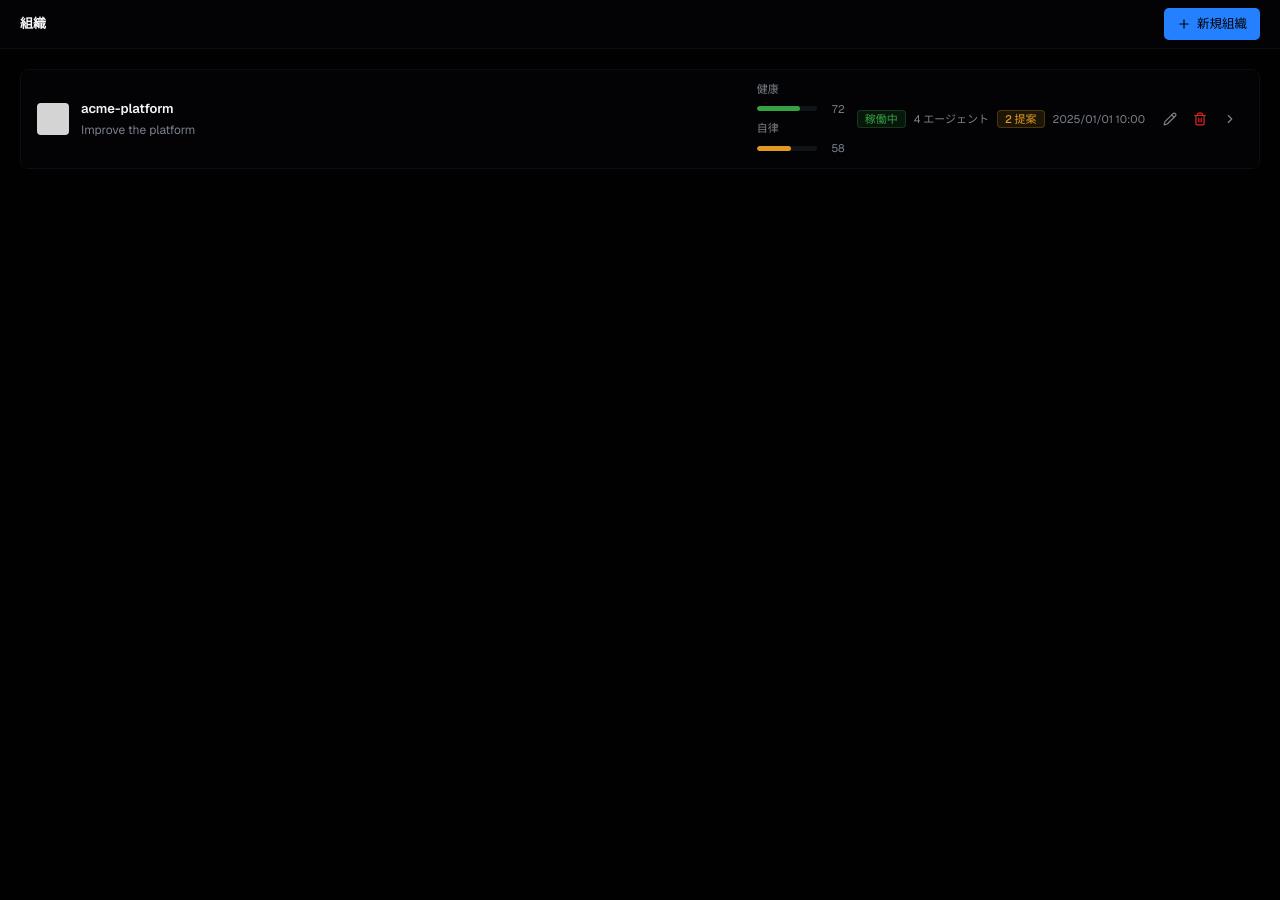
Scenario: OrgsPage › edits an existing organization
Check: the text "acme-platform" is shown, box [81,100,174,117]
Click the button named "acme-platform を編集": (1170, 119) [1157,106,1183,132]
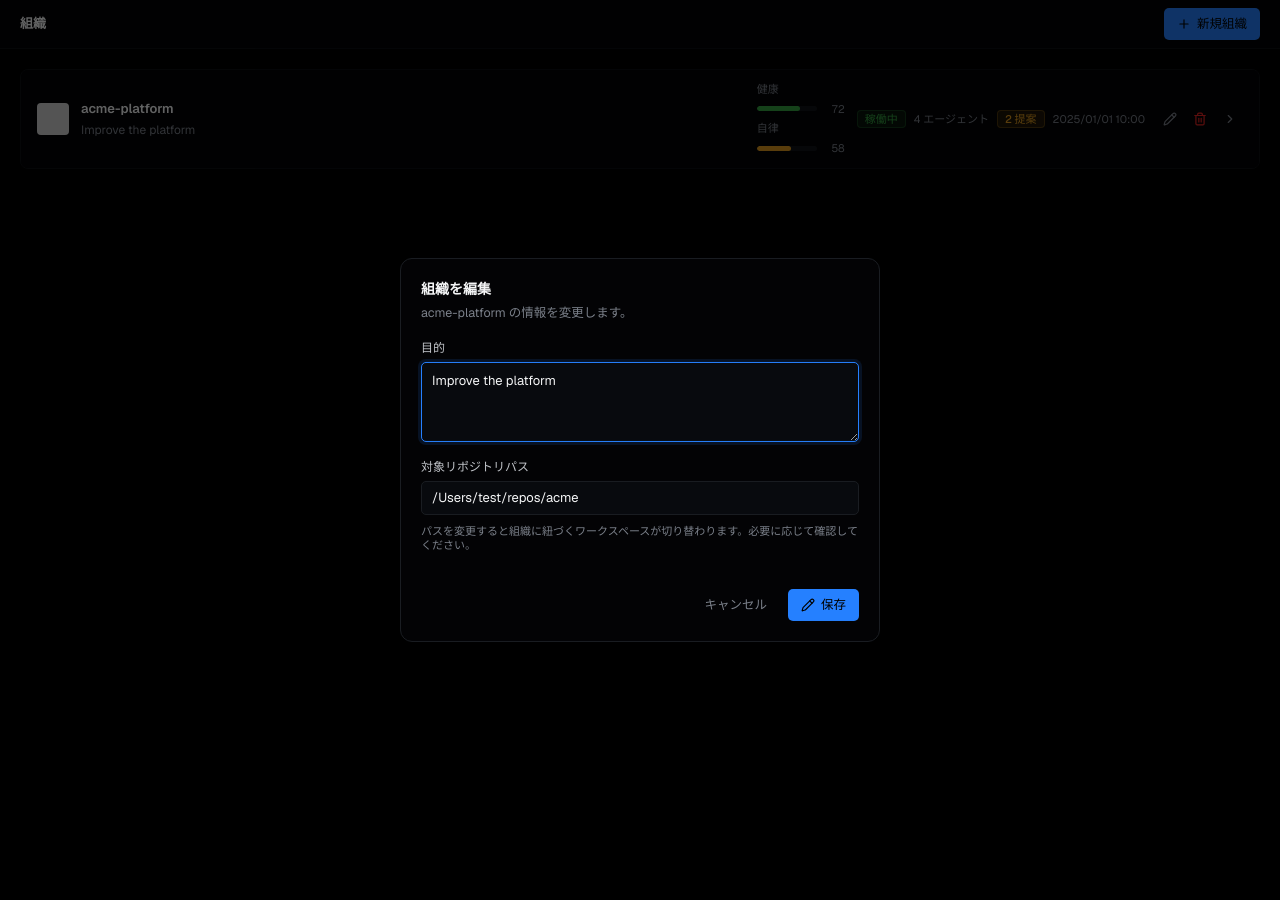
Replace the text in the text box labelled "目的" with "Improve the org workflows": (640, 402) [421,362,859,442]
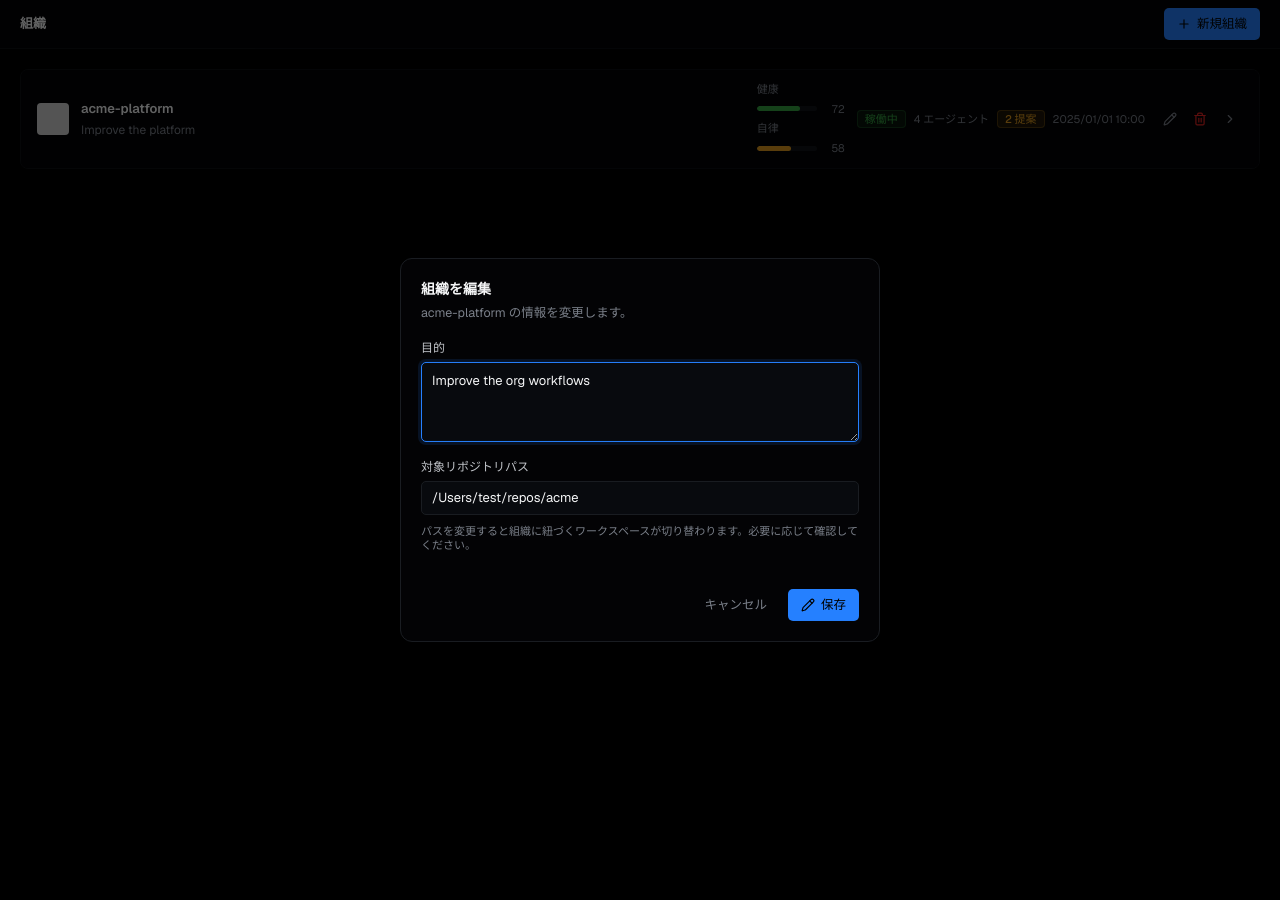
Replace the text in the field labelled "対象リポジトリパス" with "/Users/test/repos/acme-updated": (640, 498) [421,481,859,515]
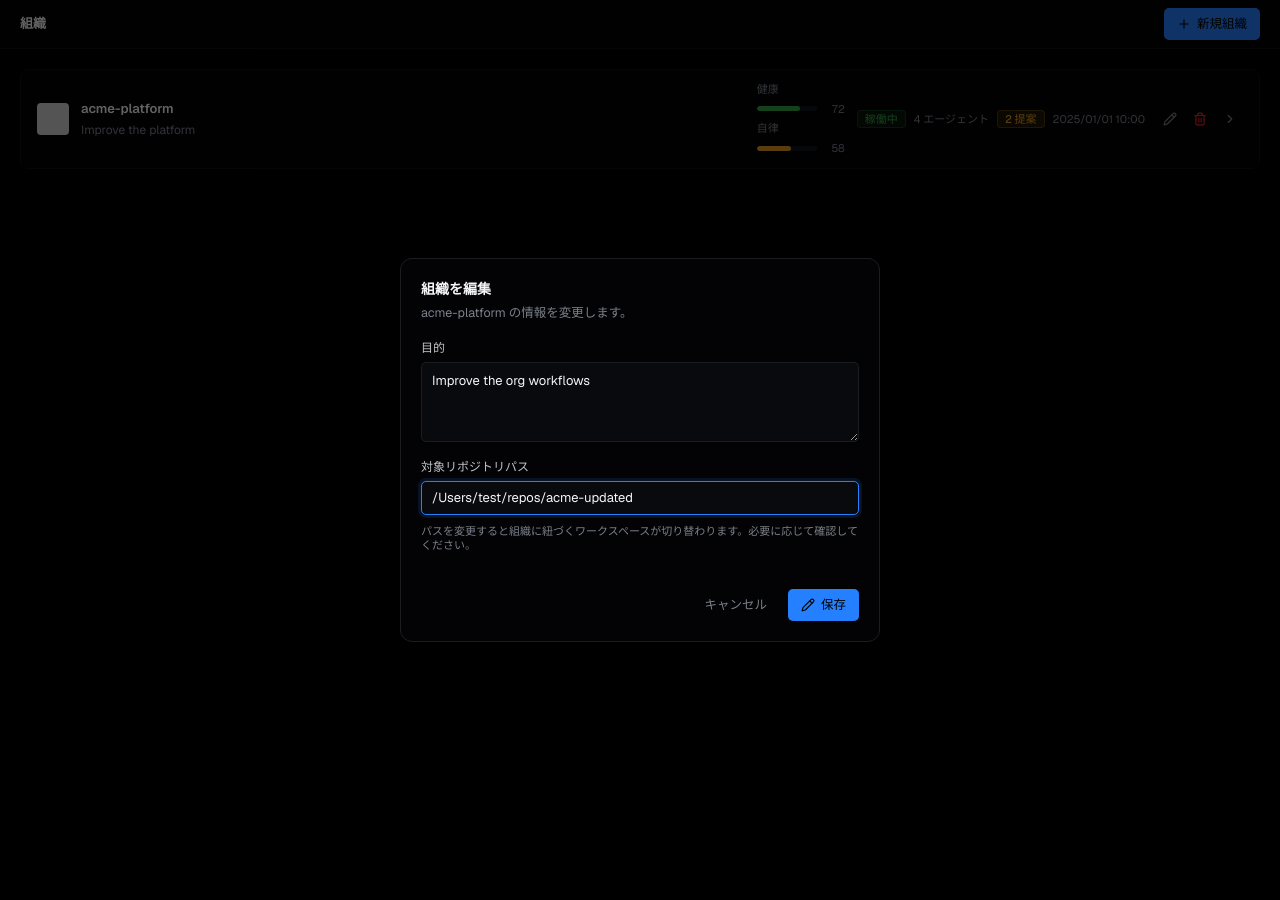
Click the button "保存": (824, 605) [788,589,859,621]
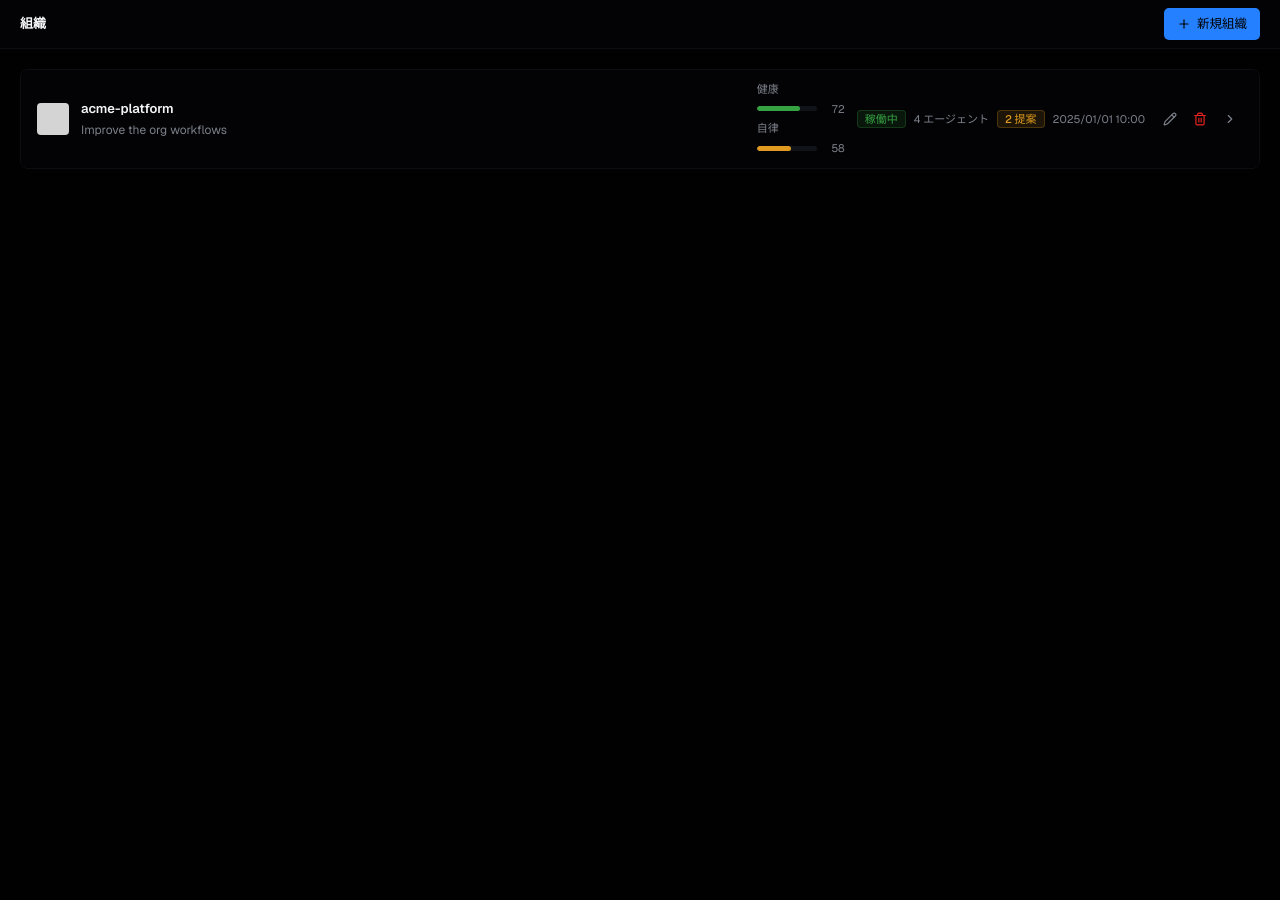
Check: the text "Improve the org workflows" is shown, box [81,122,227,138]
